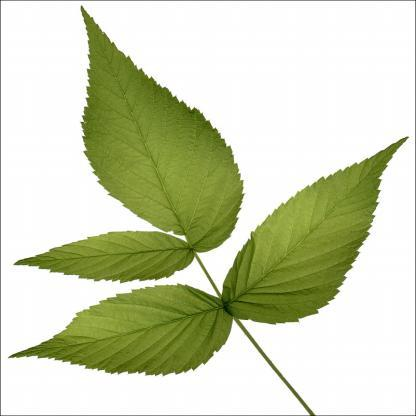Raspberry leaf: (76, 6, 248, 252), (221, 136, 408, 326), (10, 281, 235, 379), (16, 229, 204, 282)
